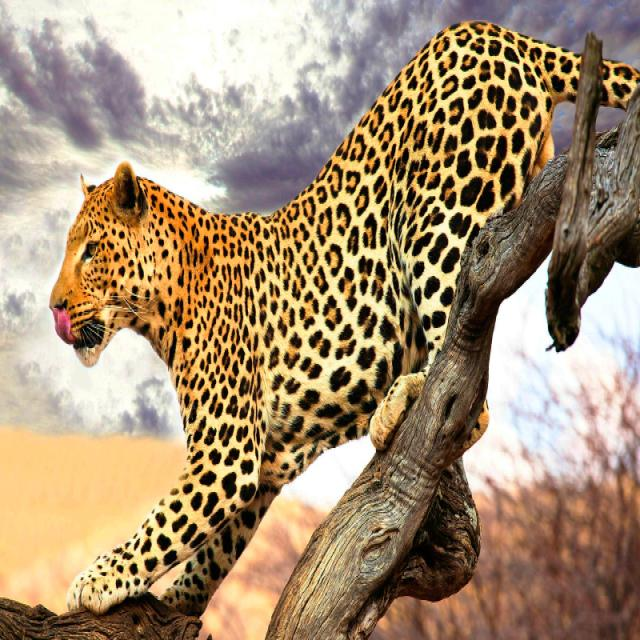Leopard: (47, 21, 640, 620)
